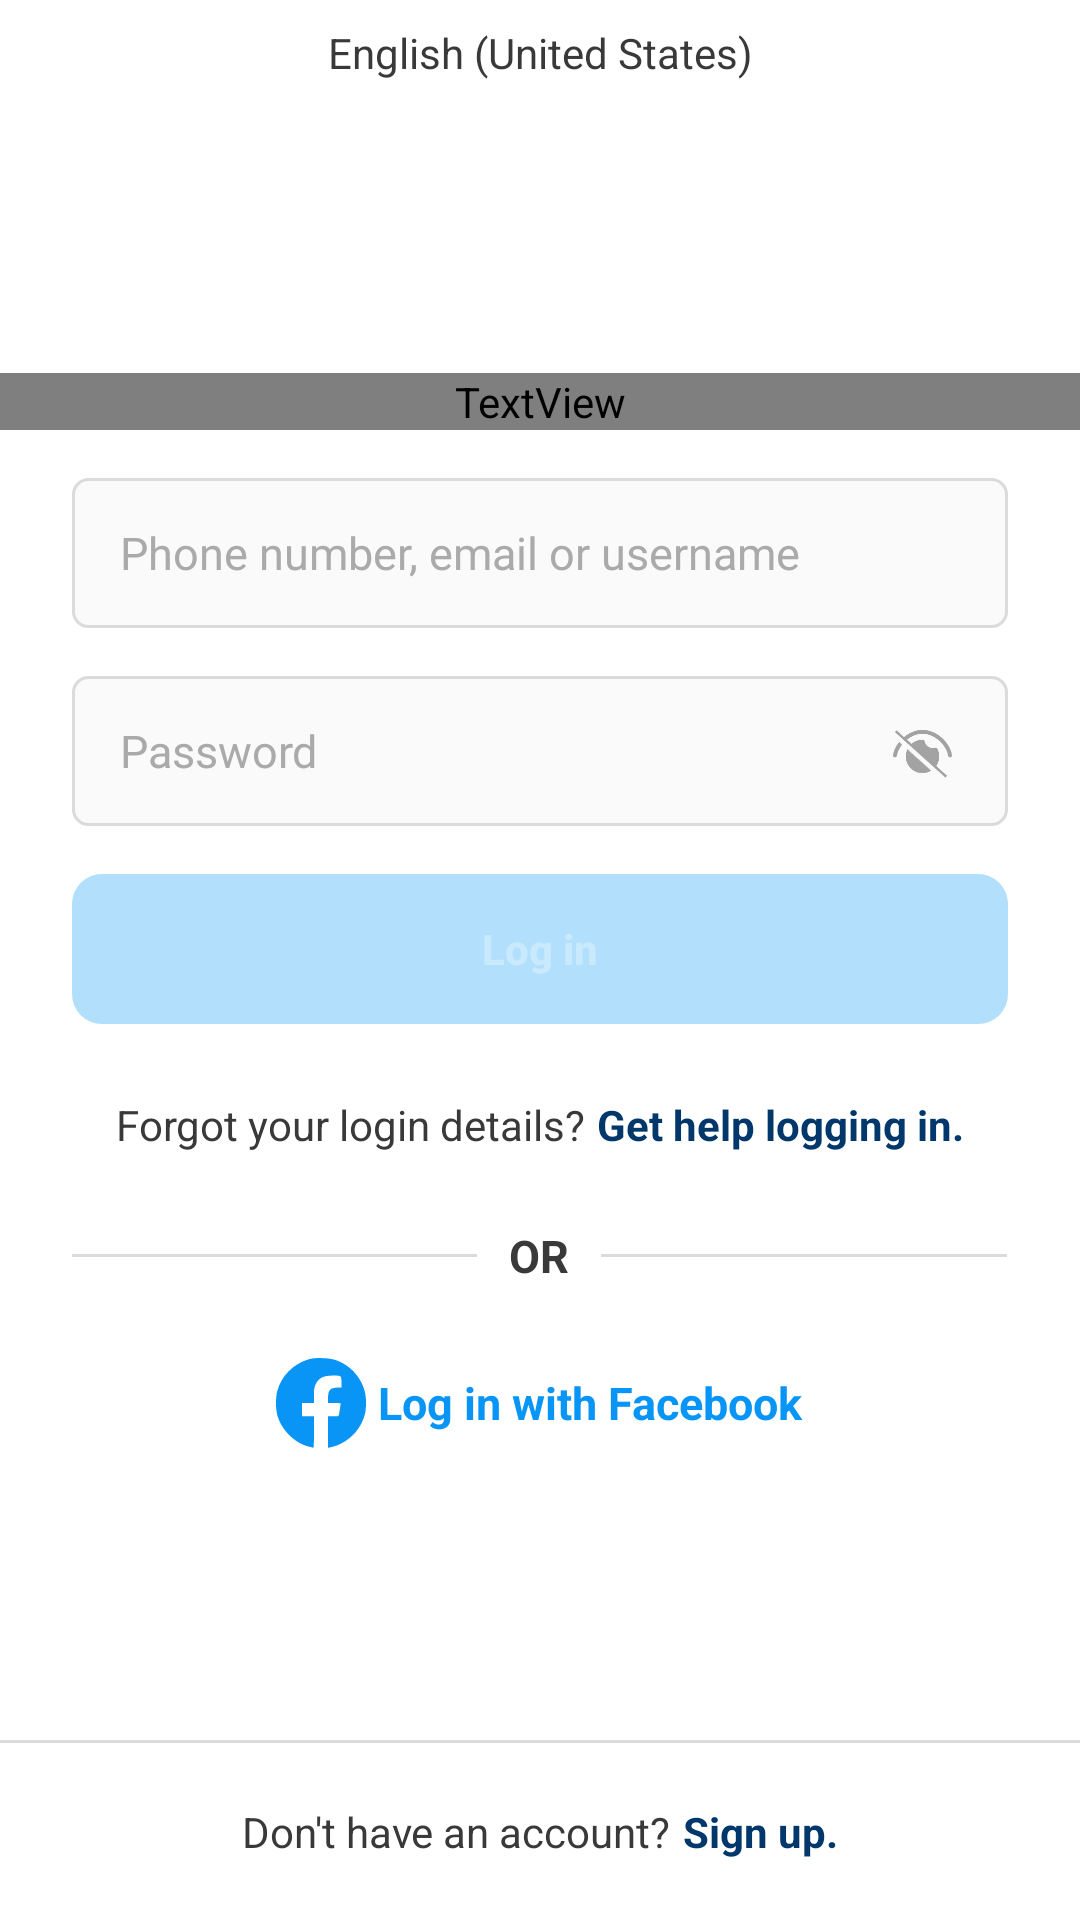

Where to tap for icons on this 1080×1920 app screen, as (x,y):
hide: (922,754)
